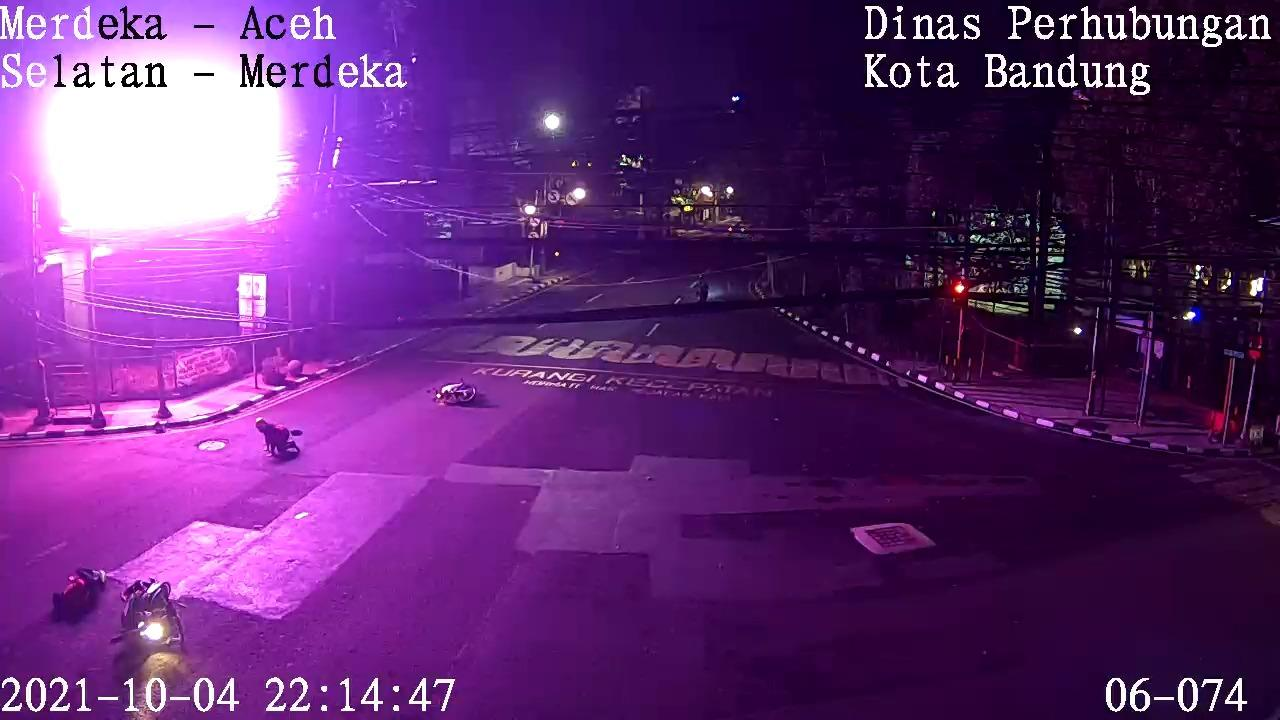accident: (37, 555, 117, 635), (240, 409, 313, 468)
